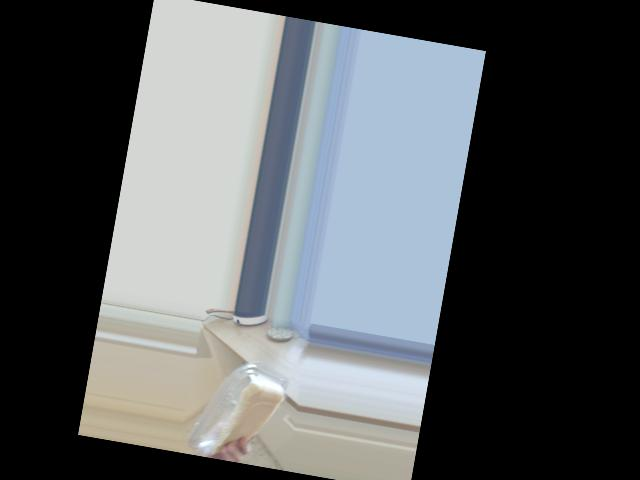cheese: (206, 365, 277, 430)
